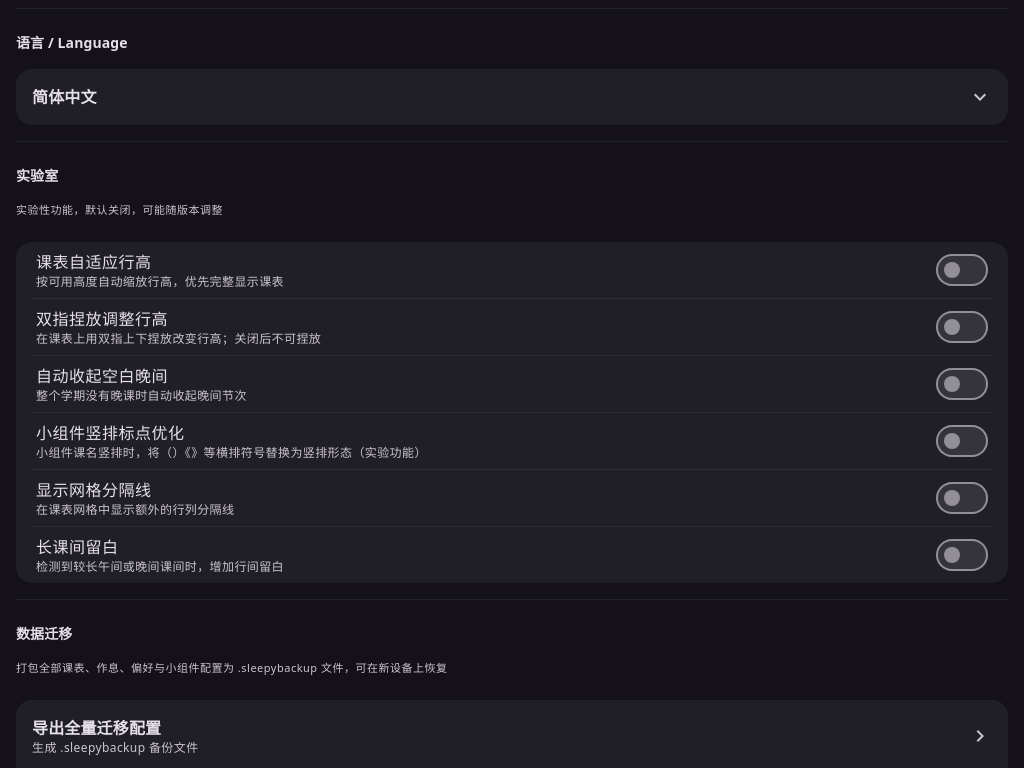
Test: 实验室段 (v1.0.56 T2/T3, Android 默认全关 1:1) › 自动收起空白晚间开 → 显示晚间起始时间行
The image size is (1024, 768).
(page scrolled)
Click the switch in the row of "整个学期没有晚课时自动收起晚间节次" at (962, 384), box [936,368,988,400]
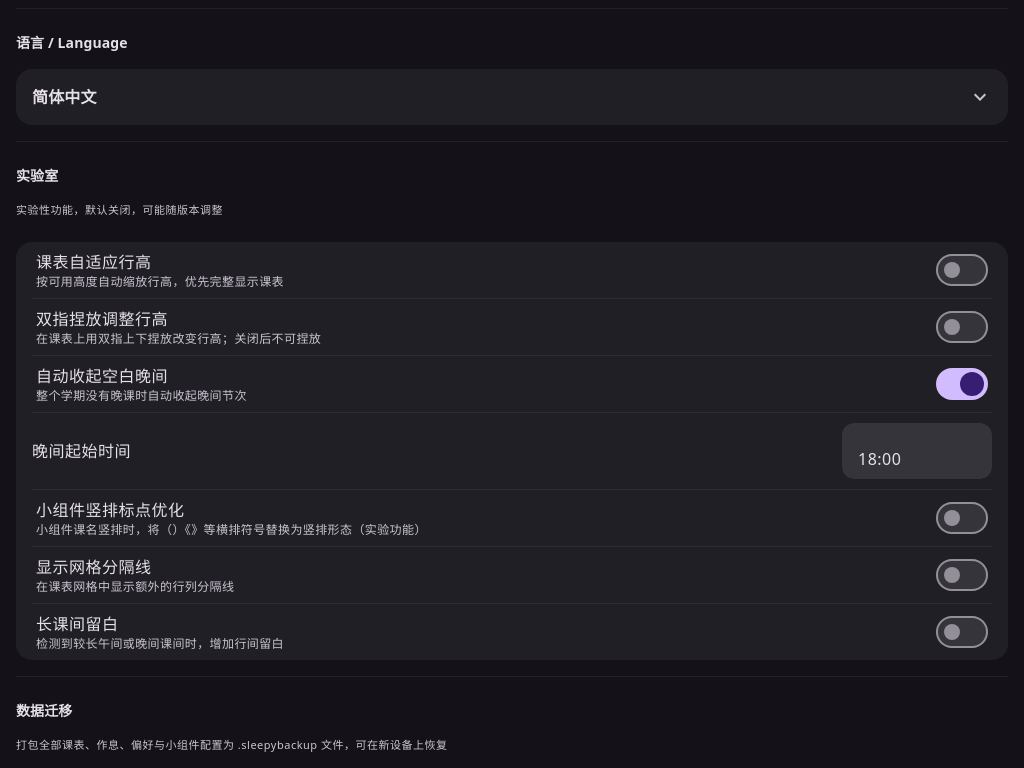
Check: the text "晚间起始时间" is shown, box [32,440,131,462]
